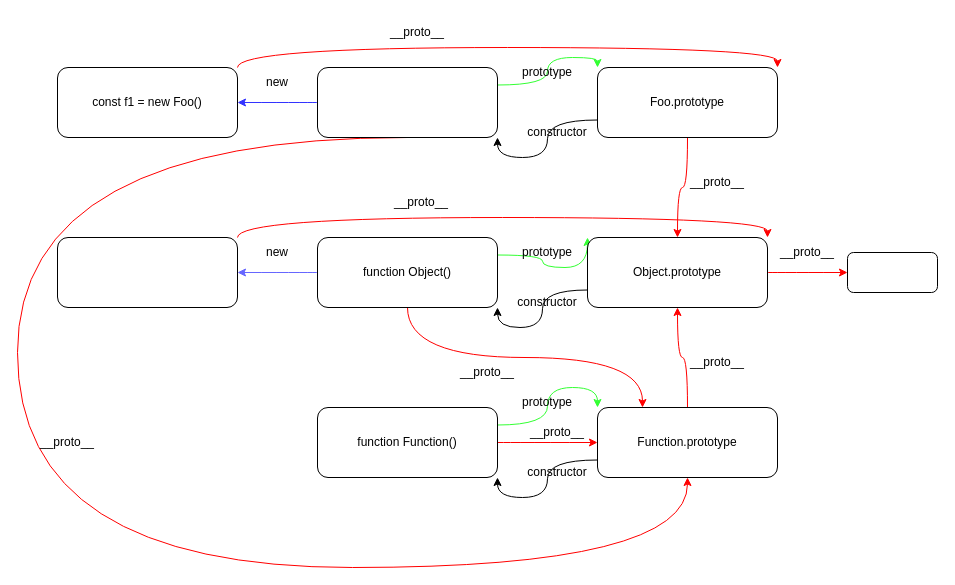
The diagram is 955 pixels wide and 585 high, and some of its shapes have lost their labels. Here are the shapes that lost their labels. From the top down, the box of each, then its label:
(316, 66, 498, 138): function Foo()
(56, 236, 238, 308): const obj1 = {} const obj2 = new Object()
(846, 252, 938, 292): null
